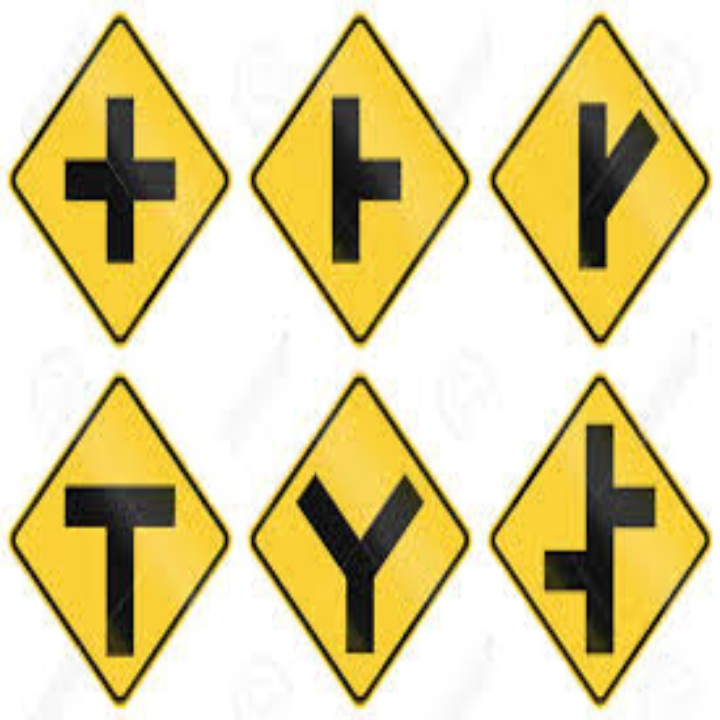inter: (60, 93, 181, 268)
